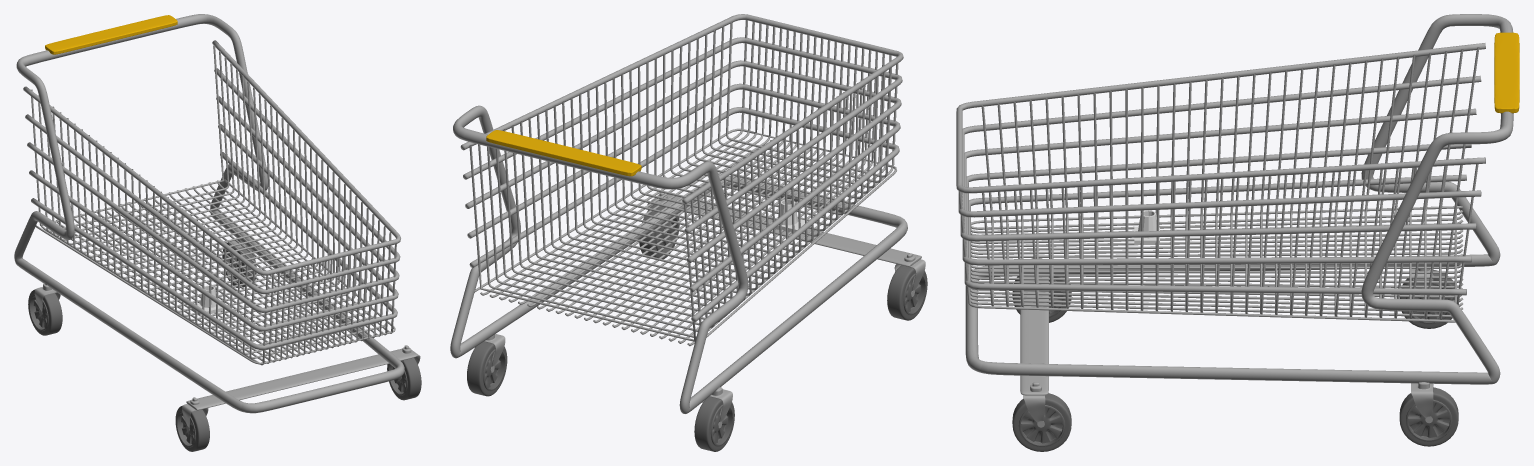
The model's file is wozeksam.fbx.
The picture shows the model from 3 angles, left to right: view 1: azimuth 30°, elevation 25°; view 2: azimuth 150°, elevation 25°; view 3: azimuth 270°, elevation 25°; orthographic projection. The views are drawn at different scales.
Visible parts, largest first — view 1: Poziome, poprzeczne, pion, Frama, Podpora, Osłona, Koło SW, Koło NW, Koło NE; view 2: Poziome, poprzeczne, pion, Frama, Osłona, Podpora, Koło NW, Koło SW, Koło SE, Koło NE; view 3: poprzeczne, Poziome, pion, Frama, Podpora, Koło NE, Koło SE, Osłona, Koło SW, Osłona SE, Osłona NE.
Boxes of the visible parts, x1,y1,x2,y2 form: Poziome: [31, 45, 391, 358]; poprzeczne: [23, 40, 400, 349]; pion: [35, 179, 396, 365]; Frama: [14, 14, 404, 413]; Podpora: [186, 348, 417, 410]; Osłona: [45, 15, 177, 54]; Koło SW: [28, 289, 62, 335]; Koło NW: [175, 405, 209, 451]; Koło NE: [387, 357, 421, 400]; Poziome: [469, 22, 891, 341]; poprzeczne: [460, 14, 903, 321]; pion: [474, 20, 898, 346]; Frama: [450, 105, 907, 413]; Osłona: [486, 130, 641, 176]; Podpora: [652, 194, 921, 266]; Koło NW: [887, 265, 927, 320]; Koło SW: [694, 396, 734, 451]; Koło SE: [467, 341, 507, 396]; Koło NE: [639, 204, 679, 259]; poprzeczne: [956, 43, 1485, 295]; Poziome: [981, 47, 1479, 319]; pion: [958, 191, 1463, 322]; Frama: [965, 14, 1513, 384]; Podpora: [1020, 276, 1048, 395]; Koło NE: [1012, 393, 1071, 451]; Koło SE: [1399, 387, 1458, 446]; Osłona: [1494, 32, 1519, 113]; Koło SW: [1399, 269, 1457, 328]; Osłona SE: [1411, 382, 1433, 423]; Osłona NE: [1023, 382, 1045, 427].
Bounding box in the file's own units: 152 × 160 × 260.
